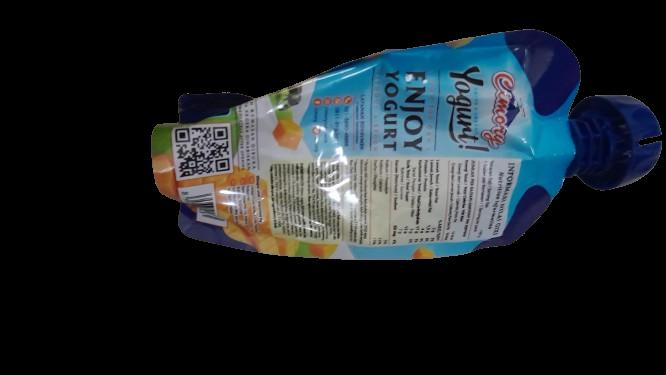Plastik: (154, 24, 666, 261)
